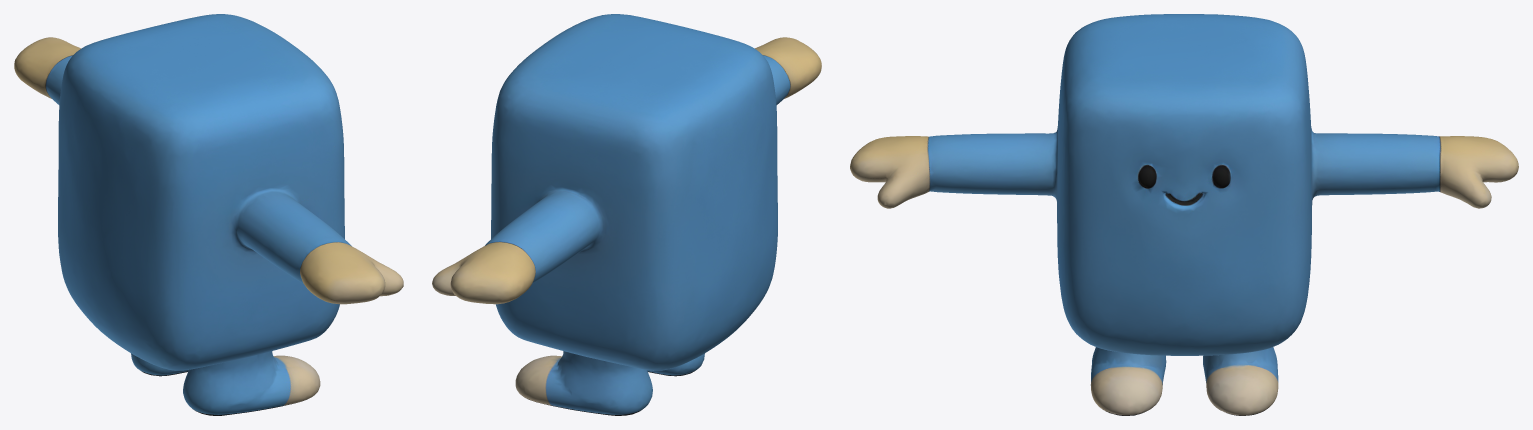
3 renders of one model, left to right at view 1: azimuth 30°, elevation 25°; view 2: azimuth 150°, elevation 25°; view 3: azimuth 270°, elevation 25°, orthographic.
Visible parts, largest first — view 1: tripo_node_6e581960-7b1a-49a6-91b3-c90ba50a6743; view 2: tripo_node_6e581960-7b1a-49a6-91b3-c90ba50a6743; view 3: tripo_node_6e581960-7b1a-49a6-91b3-c90ba50a6743.
Boxes of the visible parts, left/top/right/bottom form: tripo_node_6e581960-7b1a-49a6-91b3-c90ba50a6743: left=14, top=14, right=403, bottom=415; tripo_node_6e581960-7b1a-49a6-91b3-c90ba50a6743: left=432, top=14, right=821, bottom=415; tripo_node_6e581960-7b1a-49a6-91b3-c90ba50a6743: left=850, top=14, right=1518, bottom=415.
Bounding box in the file's own units: 0.3792 × 0.5431 × 0.9997.
1 material, 1 textured.
